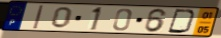0: (49, 6, 75, 30), (112, 8, 134, 32)
1: (90, 7, 104, 32)
6: (144, 7, 168, 34)
D: (166, 8, 198, 35)
I: (32, 4, 46, 30)
